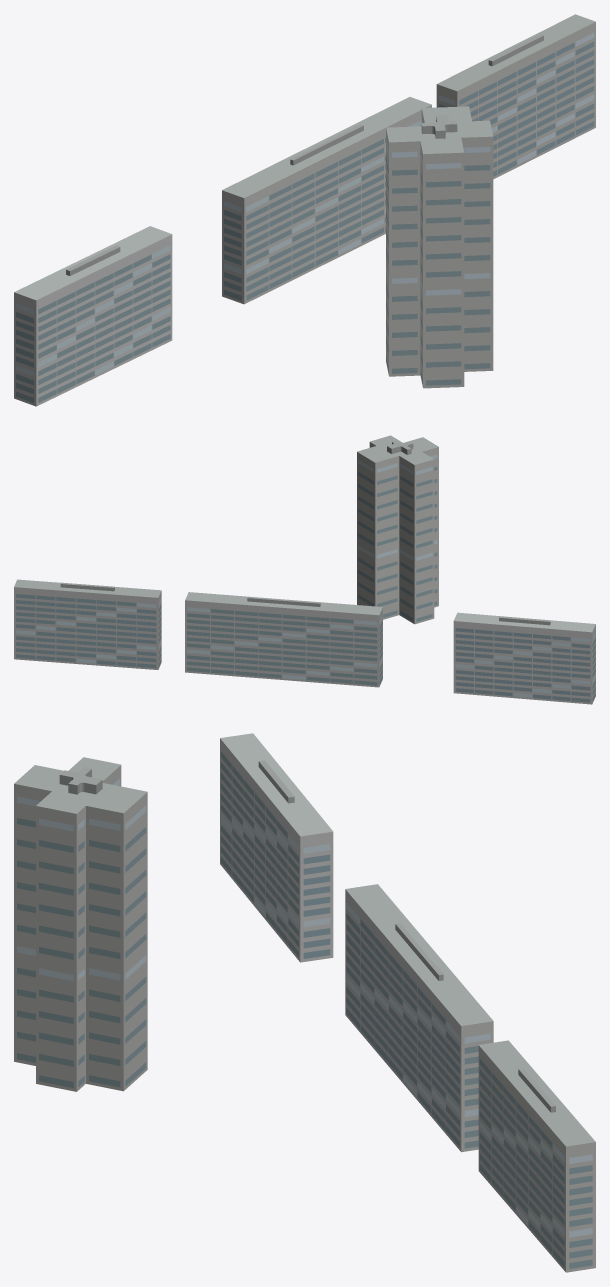
The model's file is apt-a13776508.glb.
The picture shows the model from 3 angles, top to bottom: view 1: azimuth 30°, elevation 25°; view 2: azimuth 150°, elevation 25°; view 3: azimuth 270°, elevation 25°; orthographic projection. The views are drawn at different scales.
Parts seen in each view (by area): view 1: apt-a13776508; view 2: apt-a13776508; view 3: apt-a13776508.
Boxes of the visible parts, <box> form: apt-a13776508: <box>14,14,595,406</box>; apt-a13776508: <box>14,435,595,704</box>; apt-a13776508: <box>14,733,595,1272</box>.
Bounding box in the file's own units: 228 × 74 × 136.
